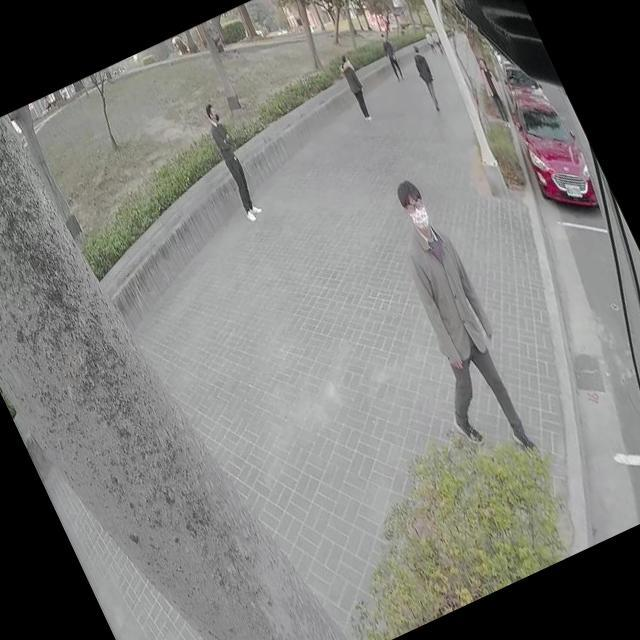person: (357, 177, 550, 478), (197, 102, 266, 221), (472, 57, 512, 126), (406, 45, 446, 112), (336, 56, 376, 121), (376, 31, 406, 80)
